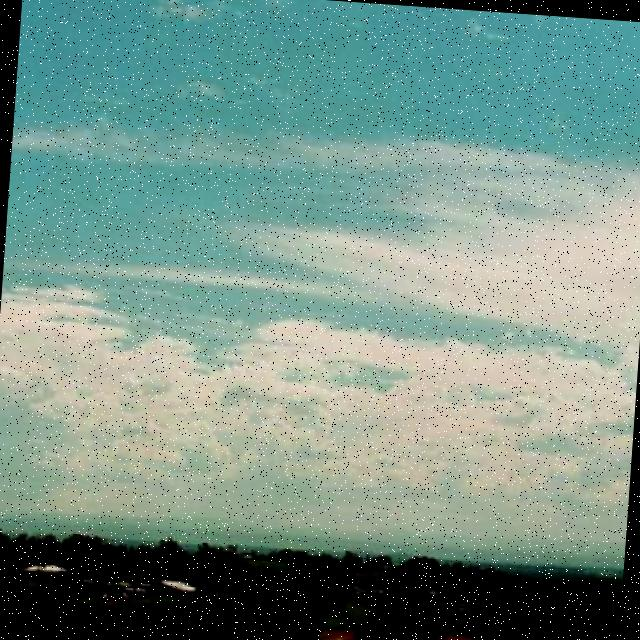Cs: (1, 90, 640, 547)
